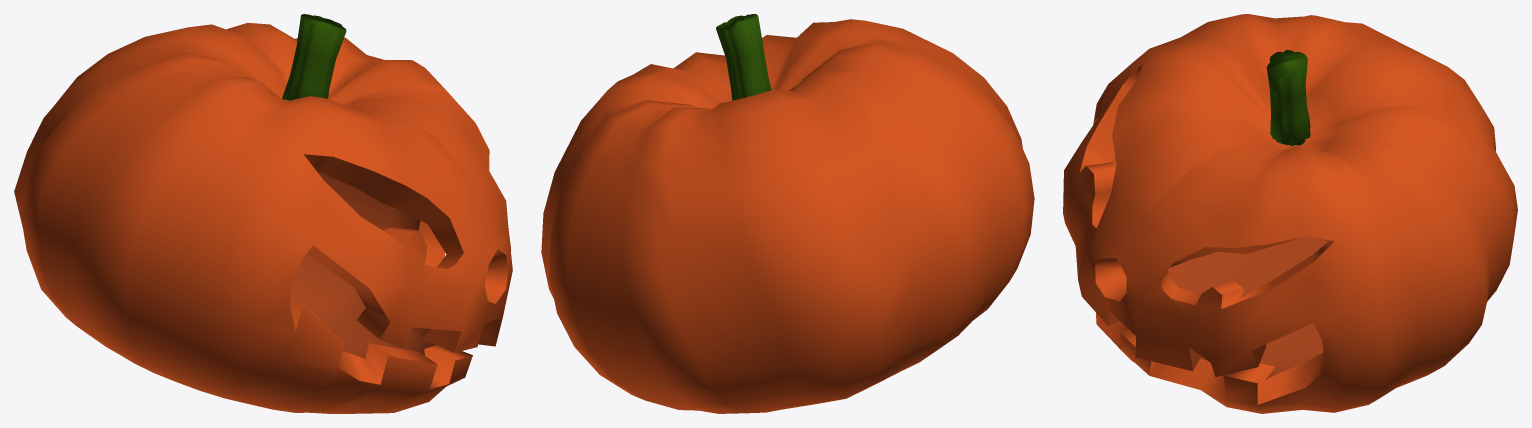
File: Pumpkins03- Halloween.fbx
3 views of the same model, side by side, from view 1: azimuth 30°, elevation 25°; view 2: azimuth 150°, elevation 25°; view 3: azimuth 270°, elevation 25° (orthographic). The views are drawn at different scales.
Visible parts, largest first — view 1: Jack-o-lantern 2, Pumpkin Stem 2; view 2: Jack-o-lantern 2, Pumpkin Stem 2; view 3: Jack-o-lantern 2, Pumpkin Stem 2.
Boxes of the visible parts, x1,y1,x2,y2 form: Jack-o-lantern 2: (14, 22, 512, 413); Pumpkin Stem 2: (282, 14, 346, 100); Jack-o-lantern 2: (541, 19, 1034, 413); Pumpkin Stem 2: (716, 14, 771, 100); Jack-o-lantern 2: (1063, 14, 1517, 413); Pumpkin Stem 2: (1266, 50, 1310, 145).
Bounding box in the file's own units: 109 × 90.14 × 112.
